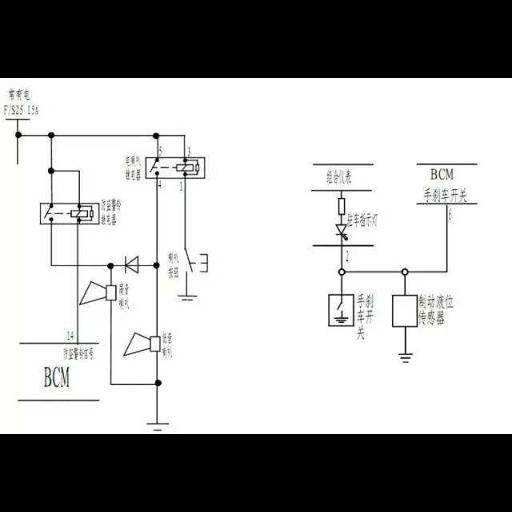firstresistance: (333, 194, 349, 217)
gnd: (394, 351, 419, 366)
seconddiode: (118, 251, 143, 278)
